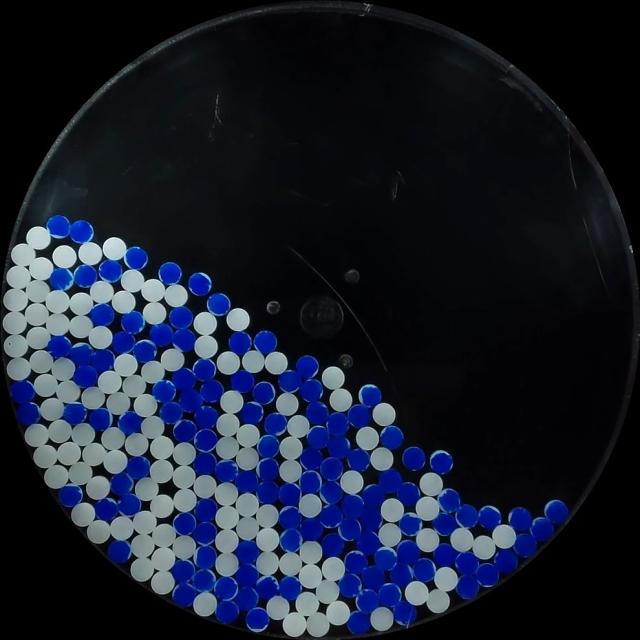pmmma-azul: (352, 530, 379, 555), (325, 434, 352, 459), (178, 388, 204, 413), (543, 499, 568, 525), (245, 607, 270, 632), (172, 582, 197, 607), (454, 551, 479, 576), (107, 539, 132, 564), (436, 488, 461, 513), (355, 587, 380, 612), (361, 564, 385, 590), (338, 572, 362, 598), (396, 538, 420, 564), (10, 379, 36, 403), (530, 516, 554, 542), (494, 548, 518, 574), (256, 480, 282, 504), (512, 532, 536, 557), (346, 403, 371, 427), (110, 471, 134, 496), (125, 455, 150, 479), (378, 468, 402, 493), (193, 520, 217, 545), (172, 367, 196, 392), (235, 563, 259, 588), (172, 327, 196, 352), (193, 451, 217, 476), (235, 586, 259, 611), (170, 559, 195, 583), (429, 450, 454, 474), (432, 512, 457, 536), (215, 600, 240, 624), (456, 574, 480, 599), (47, 334, 72, 358), (346, 610, 371, 634), (433, 543, 457, 568), (15, 401, 40, 425), (69, 342, 93, 367), (508, 506, 531, 532), (256, 574, 279, 600), (393, 600, 416, 626), (402, 446, 426, 470), (90, 348, 114, 372), (454, 504, 478, 528), (264, 412, 288, 436), (475, 563, 499, 587), (117, 492, 141, 516), (412, 558, 436, 582), (173, 511, 197, 535), (194, 405, 218, 429), (90, 302, 114, 326), (305, 400, 329, 424), (169, 306, 193, 330), (380, 425, 404, 449), (398, 512, 422, 536), (234, 469, 258, 493), (194, 498, 218, 522), (278, 575, 302, 599), (194, 428, 218, 452), (118, 410, 142, 434), (94, 497, 118, 521), (319, 456, 343, 480), (214, 576, 238, 600), (152, 379, 176, 403), (235, 540, 259, 564), (124, 246, 148, 270), (73, 364, 97, 388), (73, 264, 97, 288), (50, 267, 74, 291), (256, 434, 280, 458), (340, 494, 364, 518), (378, 582, 401, 607), (194, 544, 217, 569), (69, 220, 94, 243), (320, 481, 343, 506), (279, 505, 301, 531), (173, 418, 196, 442), (279, 528, 302, 552), (193, 357, 216, 381), (228, 331, 252, 354), (252, 381, 276, 404), (327, 412, 350, 436), (338, 516, 361, 540), (214, 459, 238, 482), (112, 331, 136, 354), (240, 401, 264, 424), (296, 354, 319, 378), (200, 379, 223, 403), (231, 369, 254, 393), (254, 330, 277, 354), (396, 482, 419, 506), (120, 311, 144, 334), (58, 484, 82, 507), (278, 482, 301, 506), (478, 505, 501, 529), (189, 272, 212, 296), (150, 323, 174, 346), (321, 532, 344, 556), (133, 339, 157, 362), (207, 292, 231, 315), (192, 568, 216, 591), (159, 401, 183, 424), (47, 215, 71, 238), (306, 426, 329, 450), (300, 448, 324, 471), (62, 402, 87, 424), (347, 448, 370, 471), (300, 378, 323, 401), (159, 262, 182, 285), (99, 259, 122, 282), (300, 470, 322, 494), (358, 384, 382, 406), (374, 546, 396, 570), (278, 370, 301, 392), (89, 407, 111, 430), (256, 458, 279, 480), (390, 564, 413, 586), (320, 505, 342, 527), (360, 506, 382, 528), (300, 517, 321, 540), (346, 552, 368, 573), (364, 484, 384, 506)
